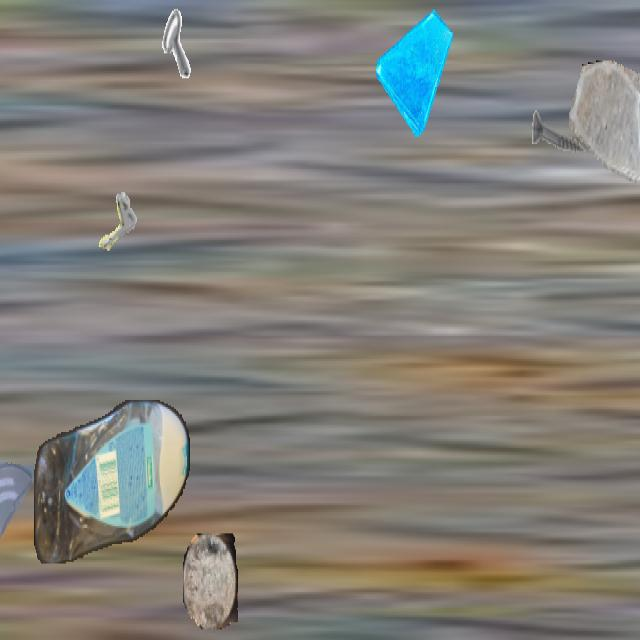glass: (376, 2, 452, 137), (569, 60, 640, 192), (0, 436, 36, 546)
metal: (130, 2, 192, 112), (530, 76, 592, 186), (81, 176, 141, 283)
plastic: (34, 400, 190, 564)
wood: (183, 534, 237, 630)
